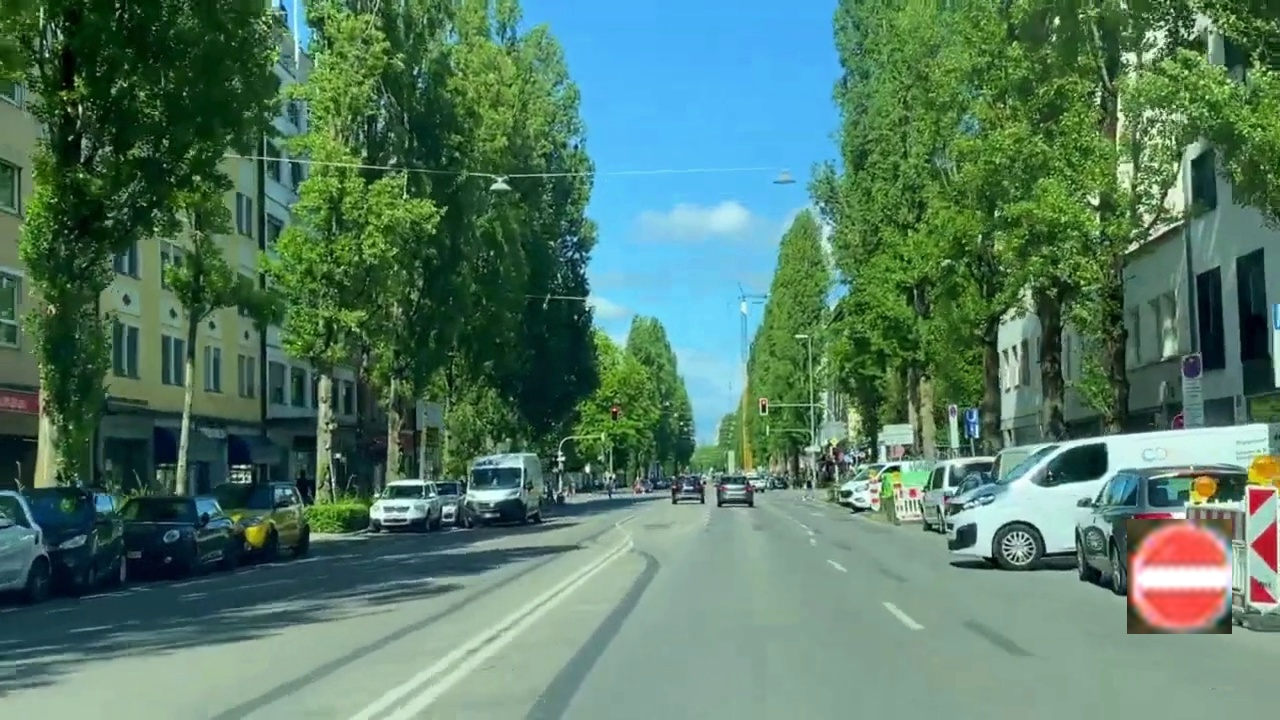No entry: (1127, 519, 1232, 634)
